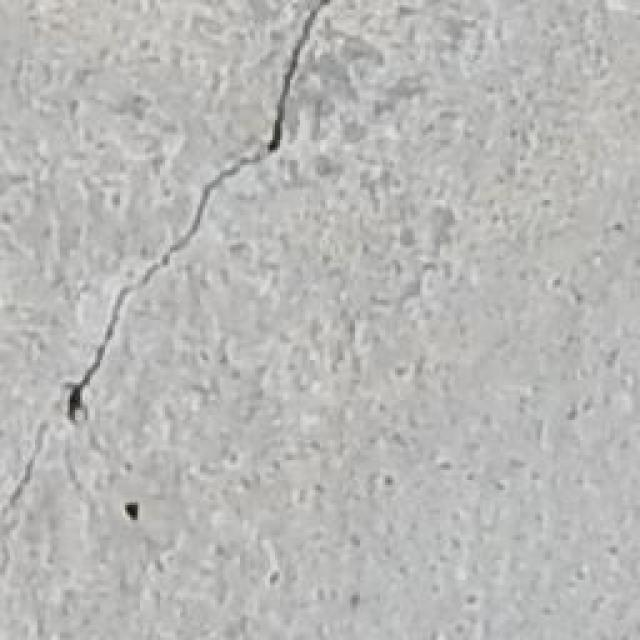concrete-crack: (0, 0, 345, 523)
